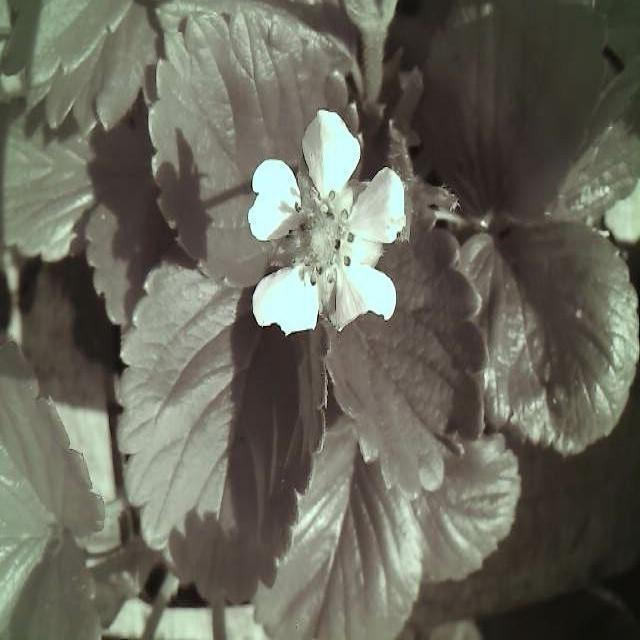flower: (247, 104, 412, 341)
